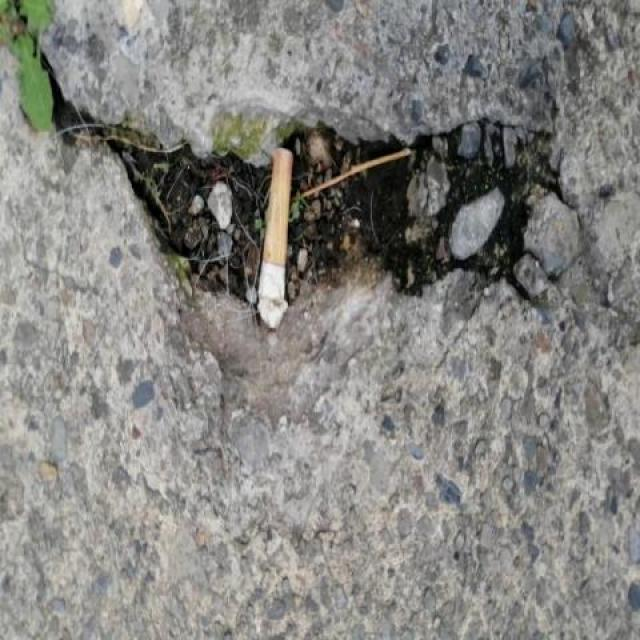non-organic waste: (252, 143, 296, 328)
